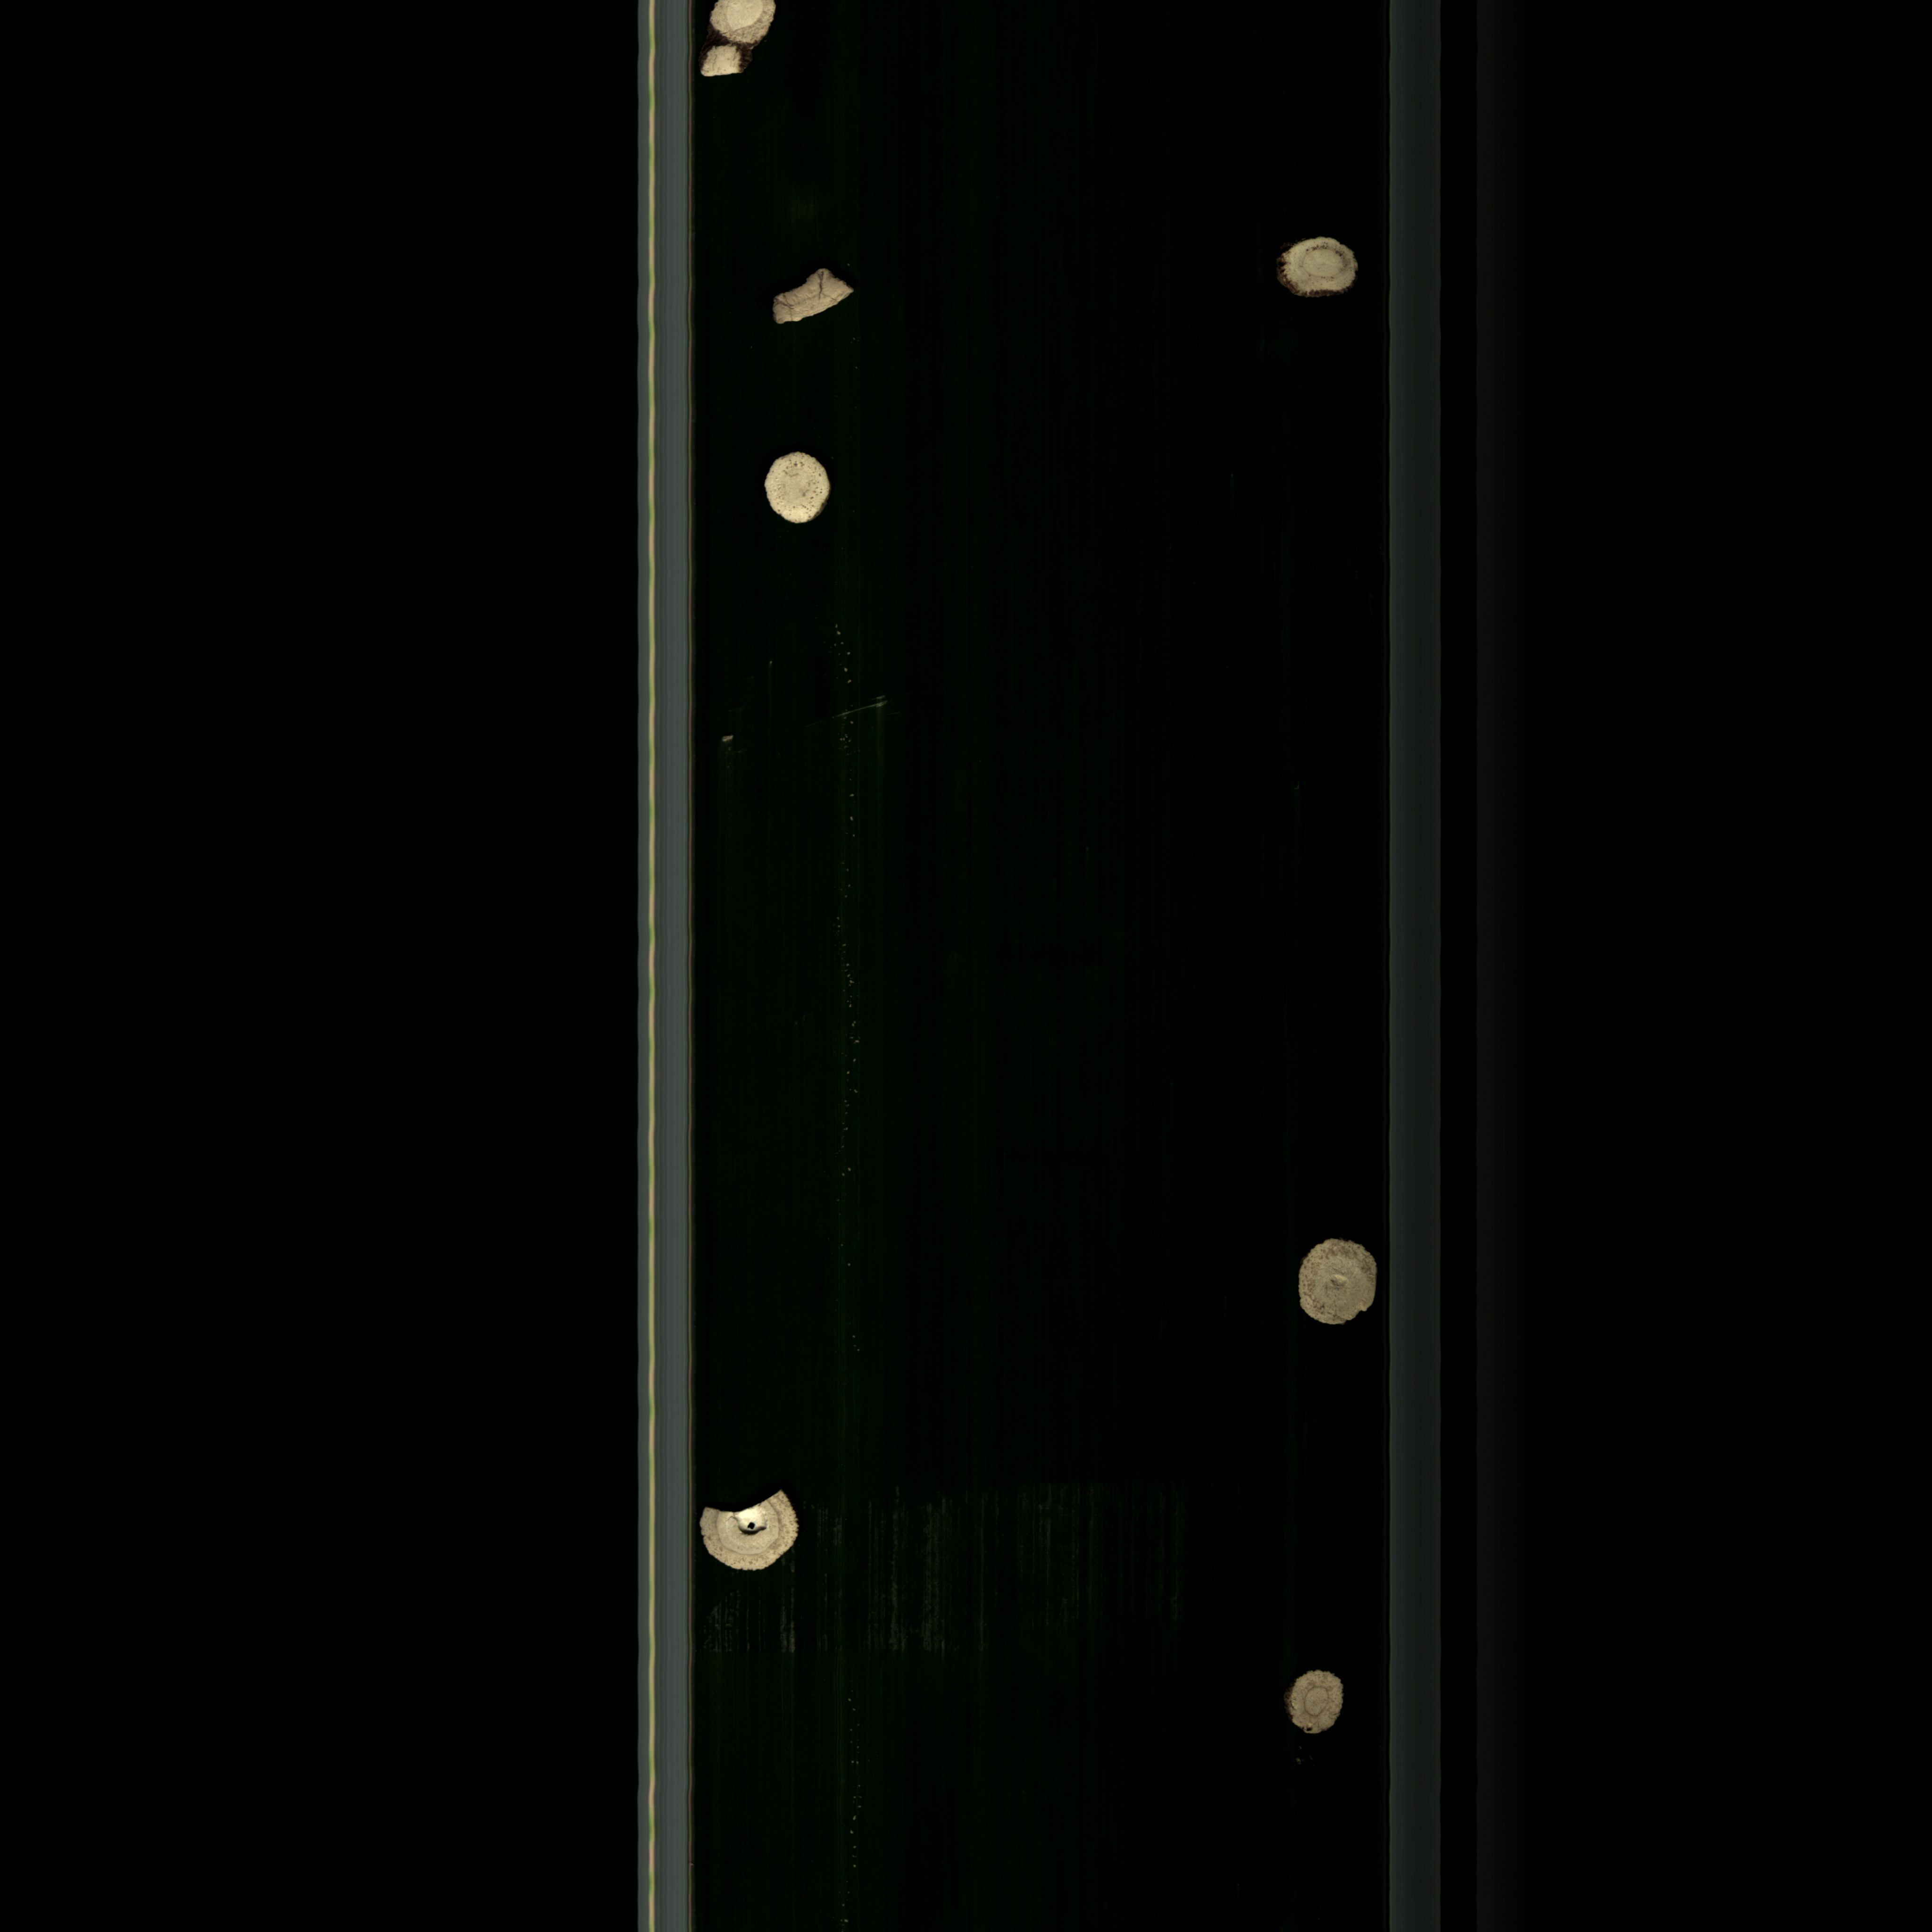debris: (692, 1495, 812, 1582), (763, 262, 858, 333)
dreg: (697, 42, 747, 90)
moldy: (1292, 1228, 1385, 1332), (1269, 234, 1362, 308)
